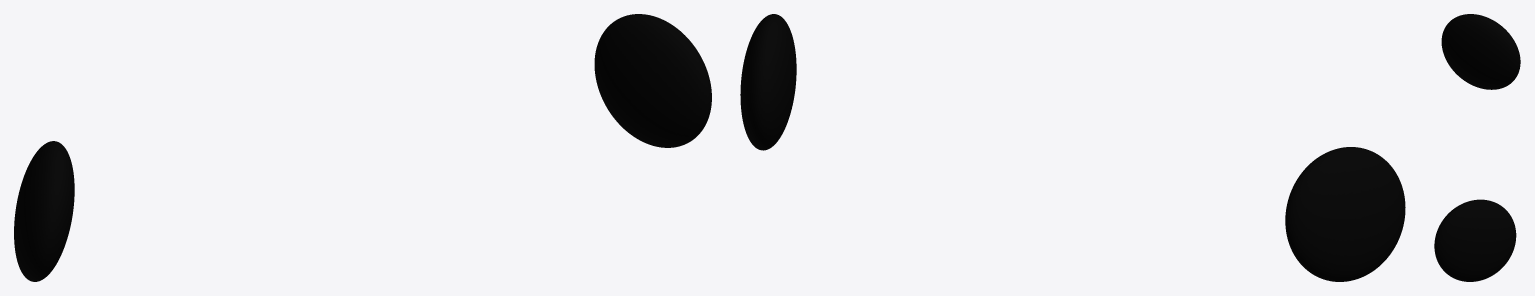
File: petfish_v33.fbx
3 views of the same model, side by side, from view 1: azimuth 30°, elevation 25°; view 2: azimuth 150°, elevation 25°; view 3: azimuth 270°, elevation 25° (orthographic). The views are drawn at different scales.
Parts seen in each view (by area): view 1: pupil_R, pupil_L; view 2: pupil_L, pupil_R; view 3: pupil_R, pupil_L.
Part boxes in pixels (x1=…): pupil_R: x1=594, y1=14, x2=711, y2=147; pupil_L: x1=14, y1=141, x2=74, y2=281; pupil_L: x1=1285, y1=147, x2=1405, y2=281; pupil_R: x1=740, y1=14, x2=796, y2=150; pupil_R: x1=1434, y1=199, x2=1516, y2=281; pupil_L: x1=1441, y1=14, x2=1520, y2=89.
Size of the model in its own units: 158 by 31.75 by 28.6.
1 material, 1 textured.
